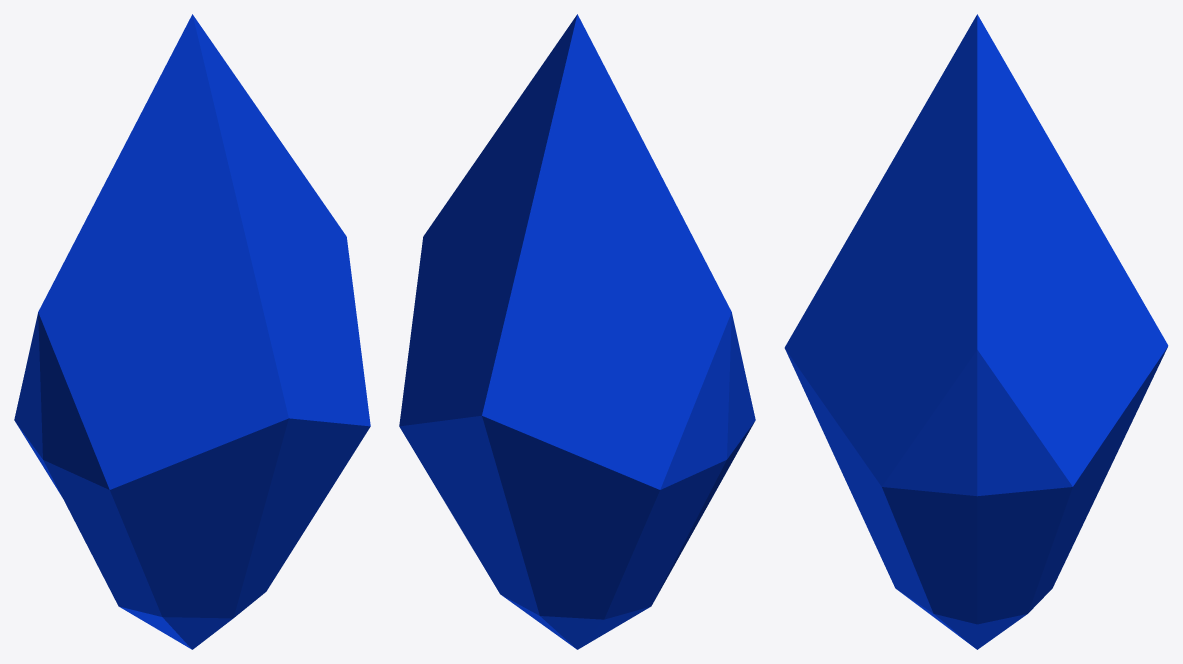
File: NuevoPrisma2024_4 3.glb
3 renders of one model, left to right at view 1: azimuth 30°, elevation 25°; view 2: azimuth 150°, elevation 25°; view 3: azimuth 270°, elevation 25°, orthographic.
Parts seen in each view (by area): view 1: prisma_1; view 2: prisma_1; view 3: prisma_1.
Part boxes in pixels (x1,y1,x2,y2): prisma_1: (14,14,370,649); prisma_1: (399,14,755,649); prisma_1: (784,14,1168,649).
Size of the model in its own units: 0.7587 by 1.49 by 0.8177.
